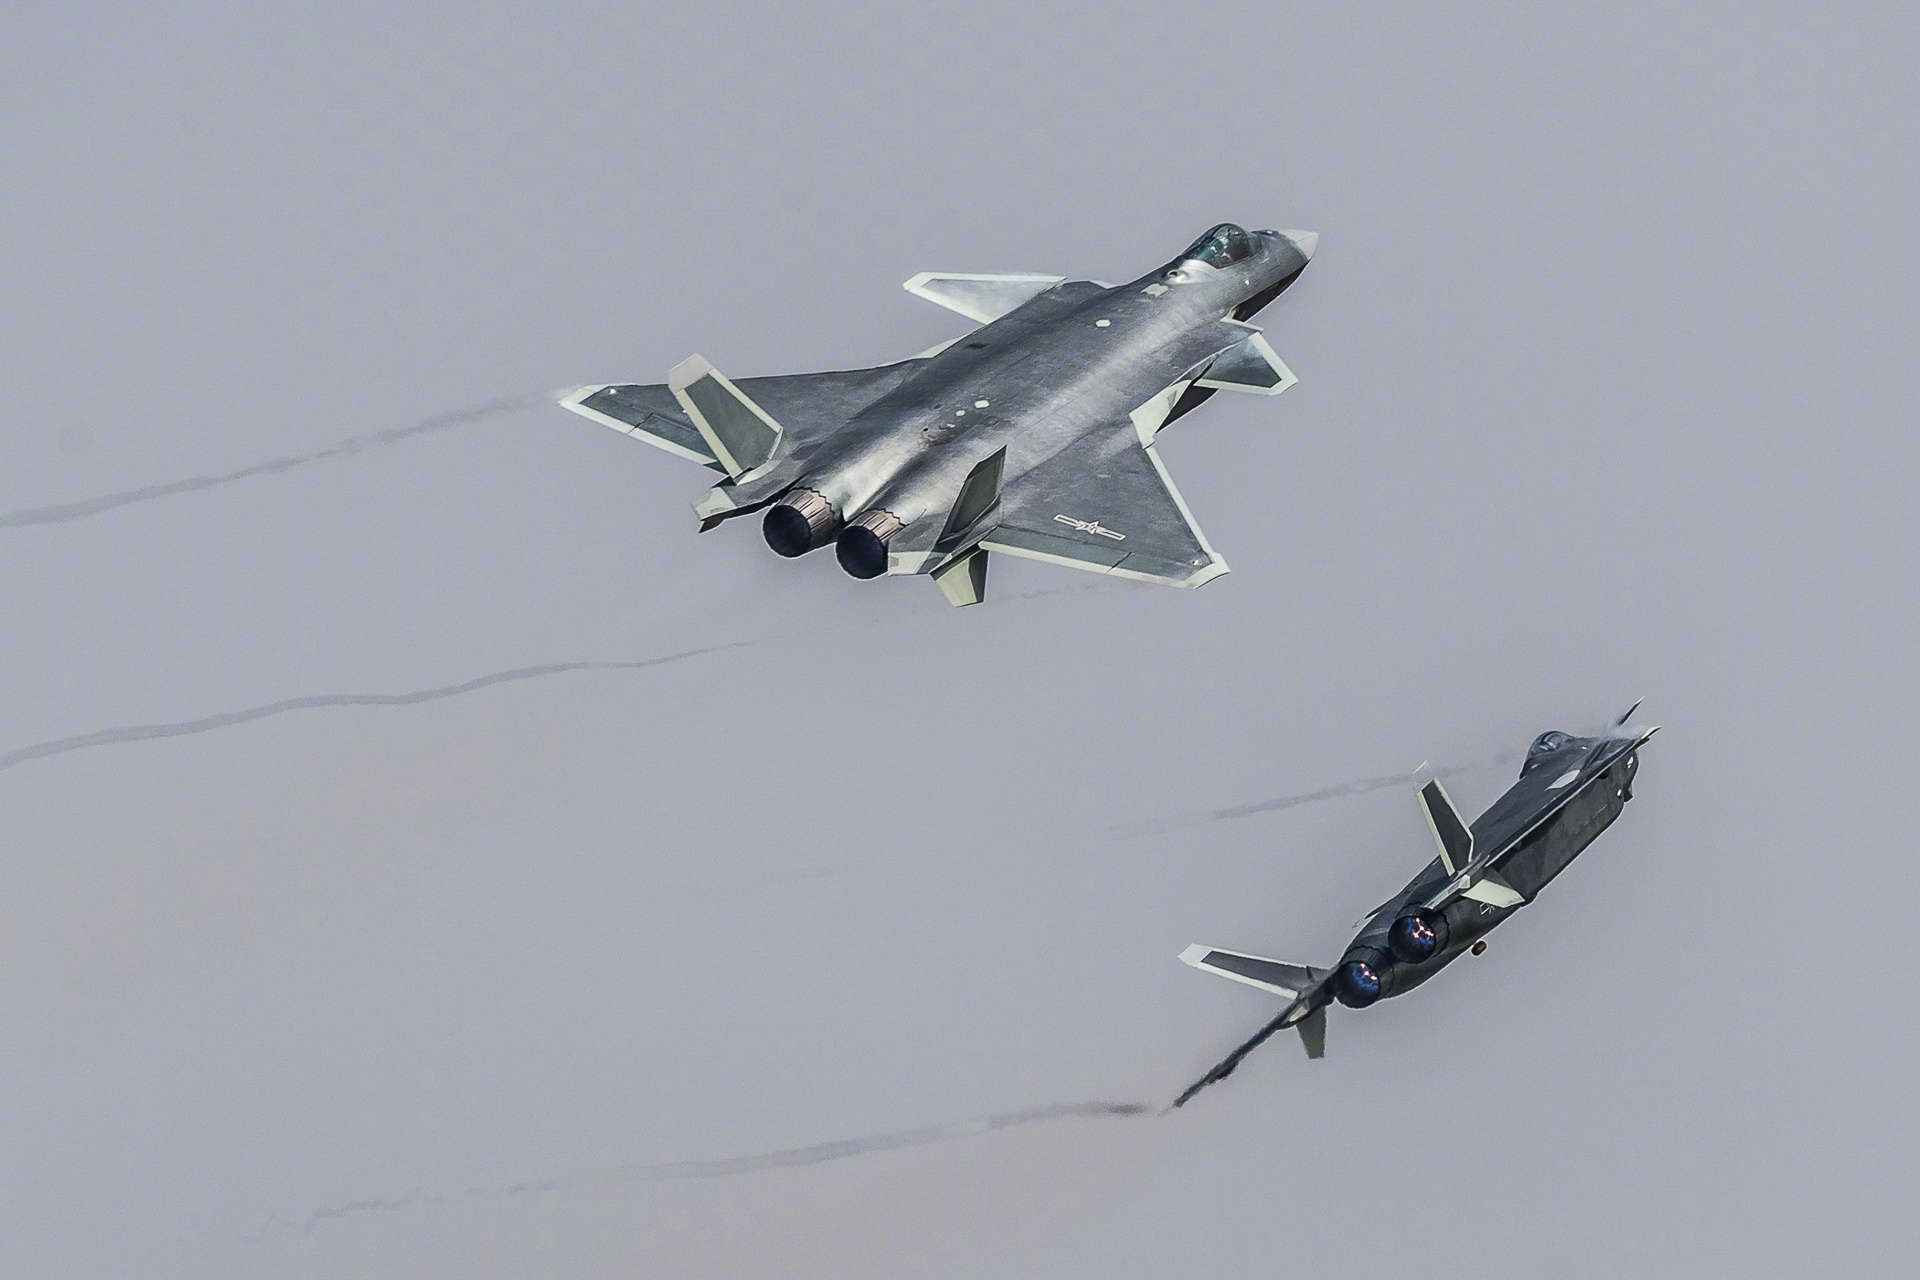J20: (554, 221, 1320, 609), (1171, 694, 1661, 1109)
